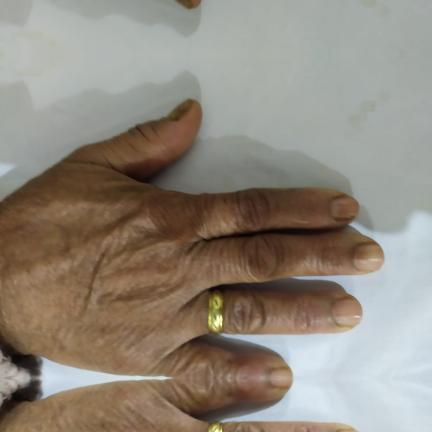Nail: (353, 242, 384, 272), (332, 299, 361, 327), (166, 99, 197, 122), (330, 197, 359, 219), (270, 368, 293, 378), (270, 378, 293, 388), (175, 0, 197, 9), (336, 429, 358, 432)
